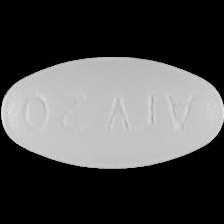50436-9988: (0, 0, 224, 224)
